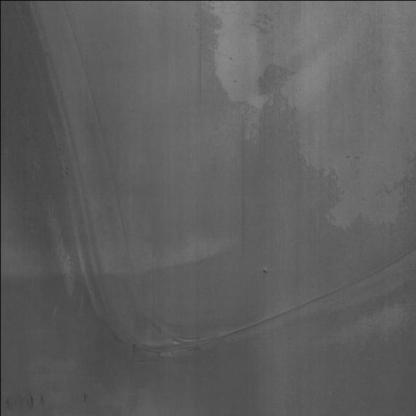crease: (17, 2, 129, 357), (131, 244, 403, 374)
